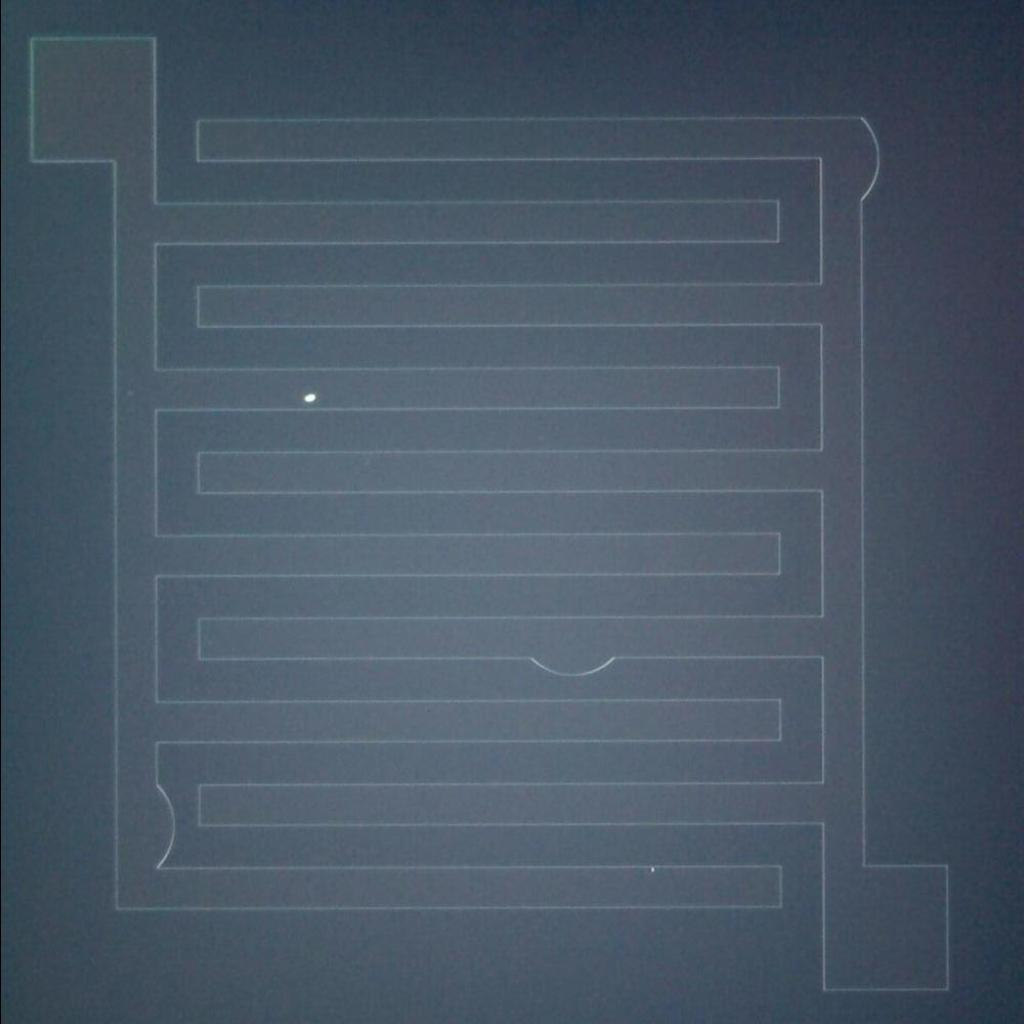curve circuit: (506, 643, 630, 684), (142, 772, 182, 888), (846, 115, 890, 219)
spot: (297, 385, 324, 410)
